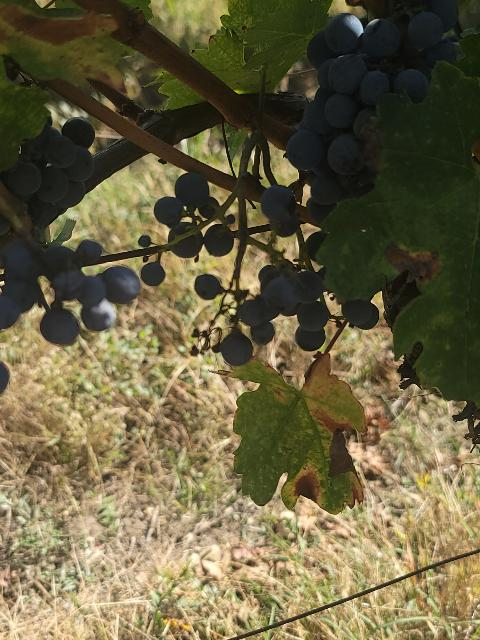grapes: (286, 0, 470, 222), (0, 235, 140, 344), (1, 118, 95, 236), (235, 260, 330, 351), (155, 172, 221, 242)
